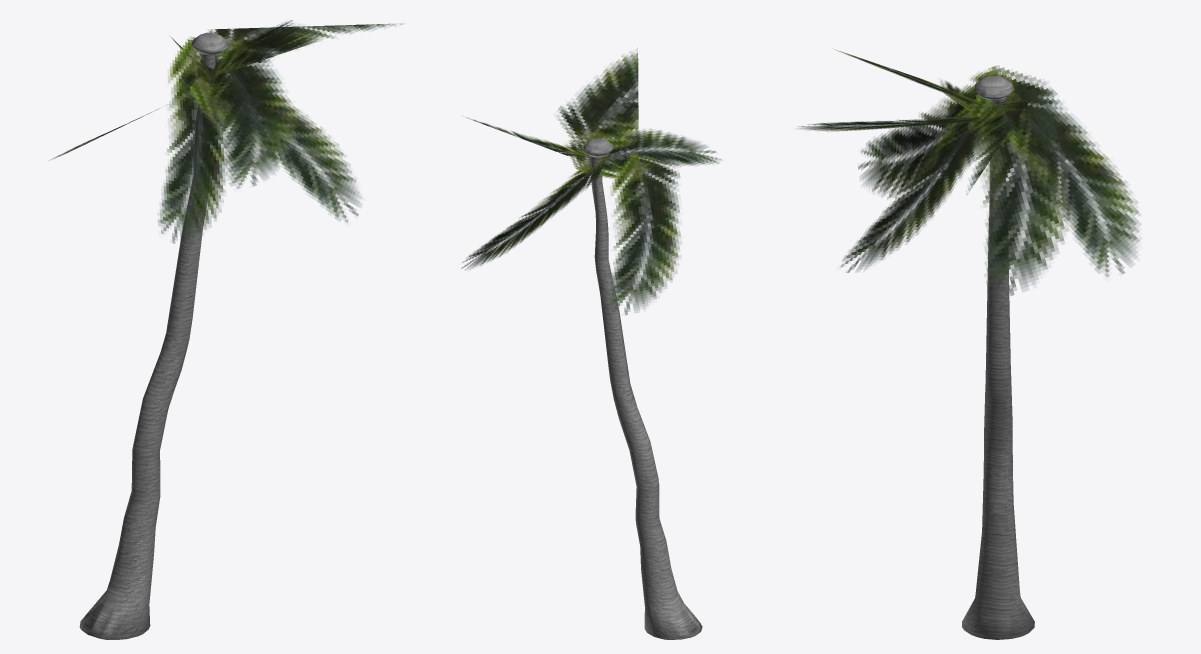
File: palm-short.lod2.glb
3 views of the same model, side by side, from view 1: azimuth 30°, elevation 25°; view 2: azimuth 150°, elevation 25°; view 3: azimuth 270°, elevation 25° (orthographic). The views are drawn at different scales.
Visible parts, largest first — view 1: Cylinder.001_Material.002_0, Cylinder.001_Material.001_0; view 2: Cylinder.001_Material.002_0, Cylinder.001_Material.001_0; view 3: Cylinder.001_Material.002_0, Cylinder.001_Material.001_0.
Part boxes in pixels (x1,y1,x2,y2): Cylinder.001_Material.002_0: (49,20,404,245); Cylinder.001_Material.001_0: (79,32,229,639); Cylinder.001_Material.002_0: (461,47,721,314); Cylinder.001_Material.001_0: (583,138,702,639); Cylinder.001_Material.002_0: (798,49,1141,295); Cylinder.001_Material.001_0: (962,76,1034,639).
Bounding box in the file's own units: 2.57 × 4.39 × 2.41.
2 materials, 2 textured.
